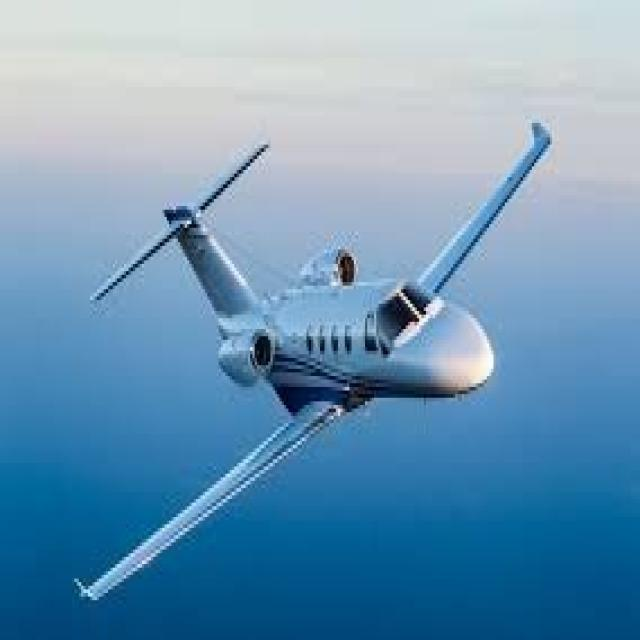jet: (27, 19, 640, 639)
